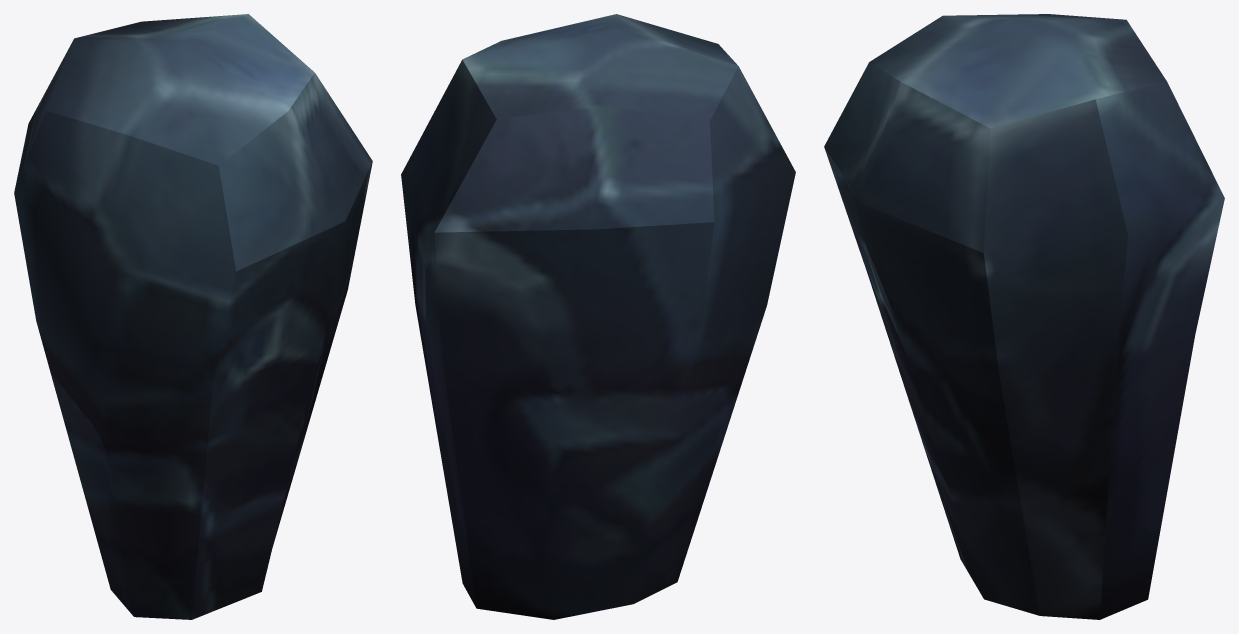
File: H_Maze_xiaoshitou02.FBX
The picture shows the model from 3 angles, left to right: view 1: azimuth 30°, elevation 25°; view 2: azimuth 150°, elevation 25°; view 3: azimuth 270°, elevation 25°; orthographic projection.
Parts seen in each view (by area): view 1: xiaoshitou02; view 2: xiaoshitou02; view 3: xiaoshitou02.
Part boxes in pixels (bbox=[...]): xiaoshitou02: bbox=[14, 14, 372, 619]; xiaoshitou02: bbox=[401, 14, 795, 619]; xiaoshitou02: bbox=[824, 14, 1224, 619].
Bounding box in the file's own units: 88.79 × 149 × 98.91.
